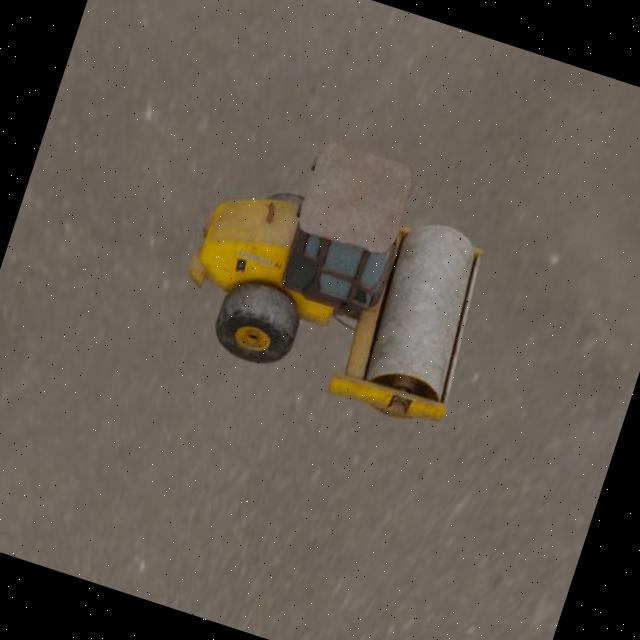Roller: (162, 108, 516, 434)
